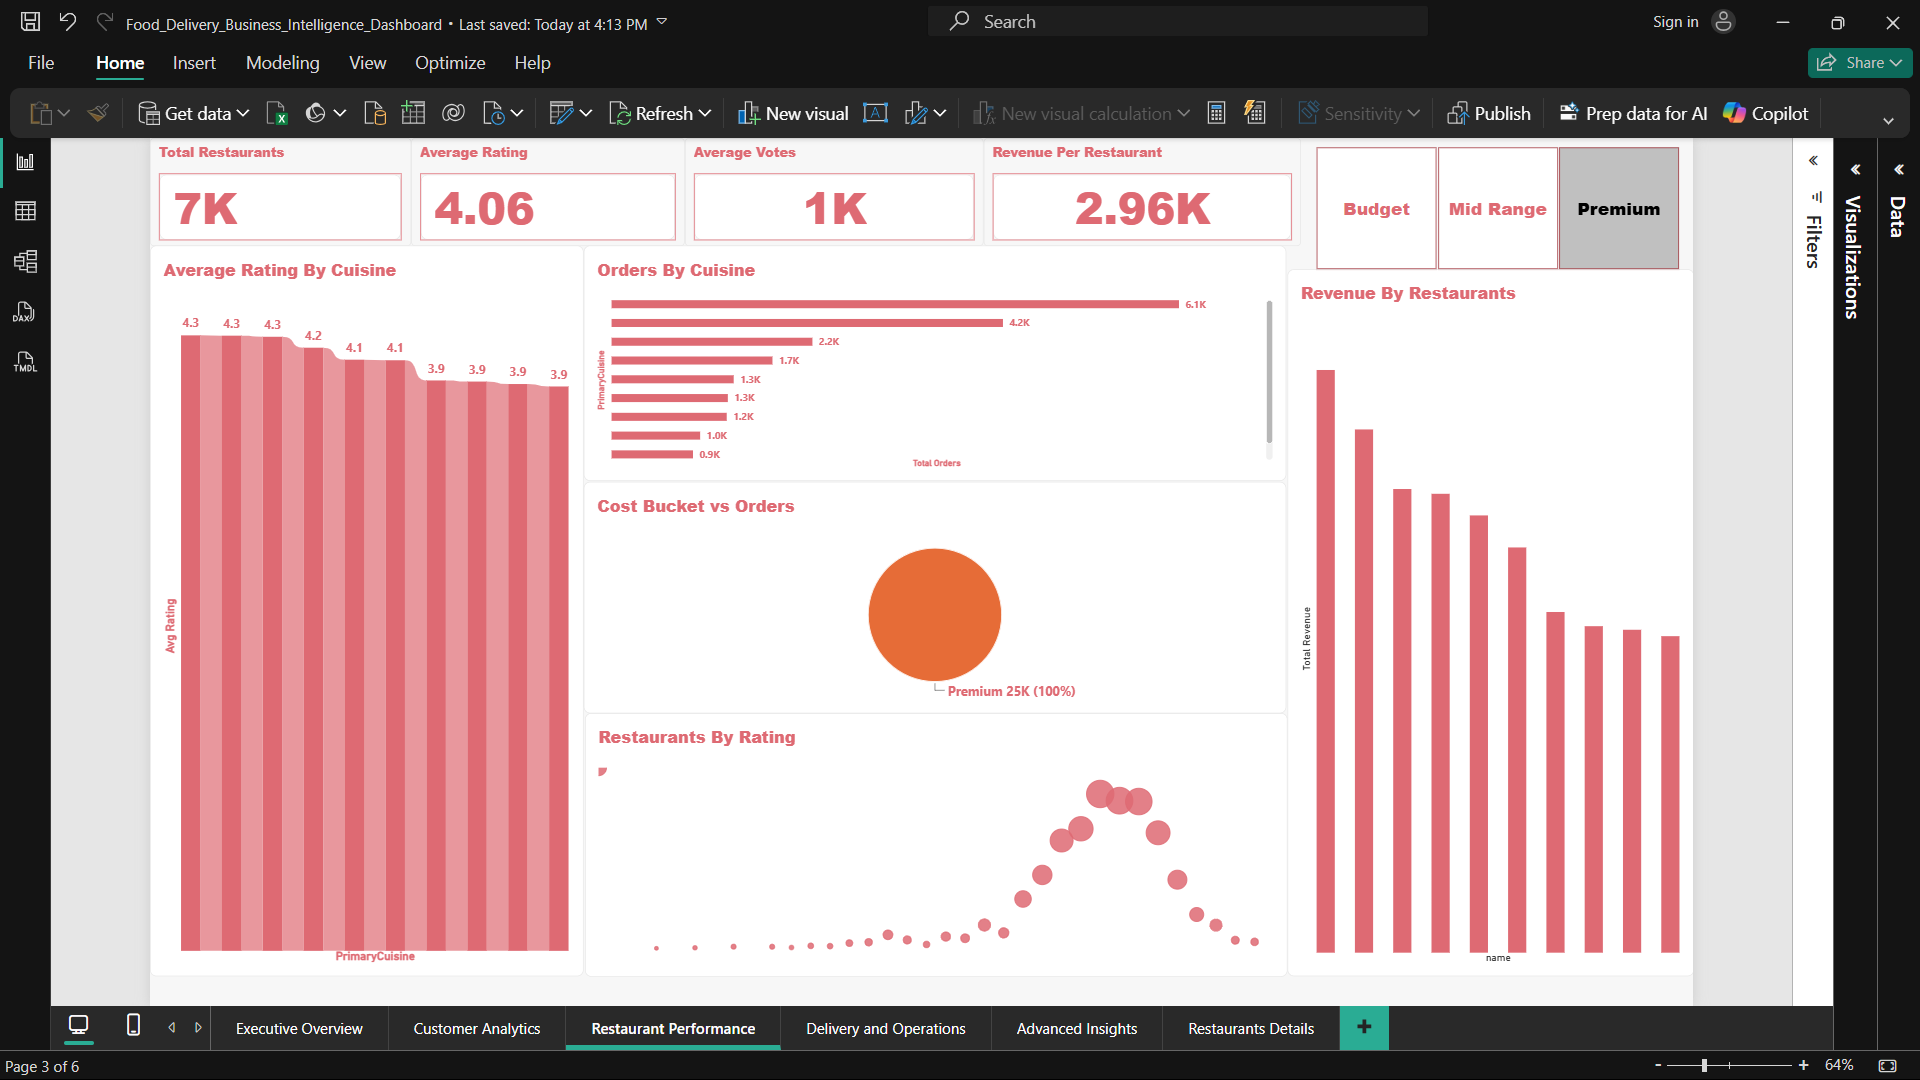

The page's visual inventory and layout, read from the dashboard file:
{"tool":"powerbi","page":{"name":"Restaurant Performance","canvas":[1920,1080],"ordinal":2},"visuals":[{"type":"cardVisual","title":"Total Restaurants","fields":{"Data":["Orders.Total Restaurants"]},"box":[0,0,324.4,134.3],"z":0},{"type":"cardVisual","title":"Average Rating","fields":{"Data":["Orders.Avg Rating"]},"box":[324.4,0,340.1,134.3],"z":1000},{"type":"cardVisual","title":"Average Votes","fields":{"Data":["Orders.Avg Votes"]},"box":[664.5,0,371.5,134.3],"z":2000},{"type":"cardVisual","title":"Revenue Per Restaurant","fields":{"Data":["Orders.Revenue per Restaurant"]},"box":[1036,0,394.2,134.3],"z":3000},{"type":"barChart","title":"Orders By Cuisine","fields":{"Y":["Orders.Total Orders"],"Category":["Restaurants.PrimaryCuisine"]},"box":[539,134.3,873.8,293],"z":4000},{"type":"columnChart","title":"Revenue By Restaurants","fields":{"Y":["Orders.Total Revenue"],"Category":["Restaurants.name"]},"box":[1414.5,164,505.8,879.1],"z":5000},{"type":"columnChart","title":"Average Rating By Cuisine","fields":{"Category":["Restaurants.PrimaryCuisine"],"Y":["Orders.Avg Rating"]},"box":[0,134.3,539,908.7],"z":6000},{"type":"scatterChart","title":"Restaurants By Rating","fields":{"X":["Restaurants.rate"],"Y":["Orders.Total Revenue"],"Size":["Orders.Total Orders"]},"box":[540.7,715.1,873.8,327.9],"z":7000},{"type":"pieChart","title":"Cost Bucket vs Orders","fields":{"Category":["Restaurants.Cost Bucket"],"Y":["Orders.Total Orders"]},"box":[539,427.3,873.8,287.8],"z":8000},{"type":"slicer","fields":{"Values":["Restaurants.Cost Bucket"]},"box":[1430.2,8.7,490.1,155.2],"z":9000}]}

Visuals, with their boxes on the page's 1920x1080 design canvas (x1, y1, x2, y2). These are canvas units, not pixel positions in the 1920x1080 screenshot, which may show the page scaled, cropped or inside an application window:
"Total Restaurants" cardVisual: [x1=0, y1=0, x2=324, y2=134]
"Average Rating" cardVisual: [x1=324, y1=0, x2=664, y2=134]
"Average Votes" cardVisual: [x1=664, y1=0, x2=1036, y2=134]
"Revenue Per Restaurant" cardVisual: [x1=1036, y1=0, x2=1430, y2=134]
"Orders By Cuisine" barChart: [x1=539, y1=134, x2=1413, y2=427]
"Revenue By Restaurants" columnChart: [x1=1414, y1=164, x2=1920, y2=1043]
"Average Rating By Cuisine" columnChart: [x1=0, y1=134, x2=539, y2=1043]
"Restaurants By Rating" scatterChart: [x1=541, y1=715, x2=1414, y2=1043]
"Cost Bucket vs Orders" pieChart: [x1=539, y1=427, x2=1413, y2=715]
slicer - Restaurants.Cost Bucket: [x1=1430, y1=9, x2=1920, y2=164]
